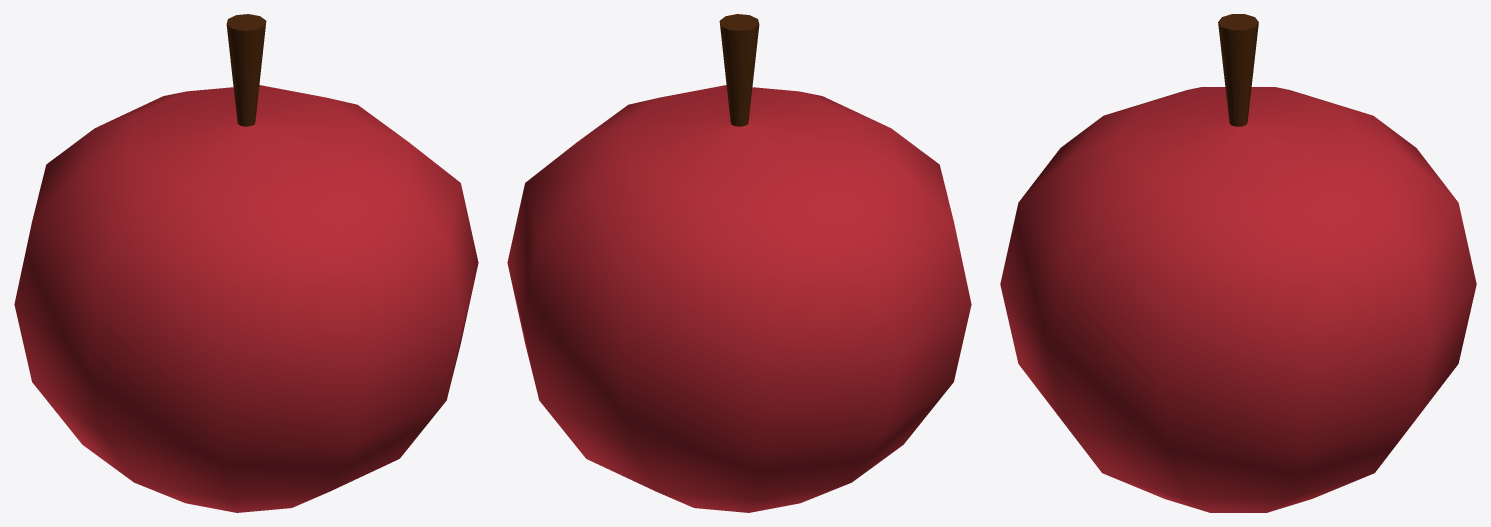
File: apple.fbx
3 views of the same model, side by side, from view 1: azimuth 30°, elevation 25°; view 2: azimuth 150°, elevation 25°; view 3: azimuth 270°, elevation 25° (orthographic).
Visible parts, largest first — view 1: Sphere; view 2: Sphere; view 3: Sphere.
Part boxes in pixels (box(x1,y1,x2,y2)): Sphere: box(14, 14, 478, 512); Sphere: box(507, 14, 971, 512); Sphere: box(1000, 14, 1476, 512).
Size of the model in its own units: 145 by 167 by 152.
1 material, 1 textured.
